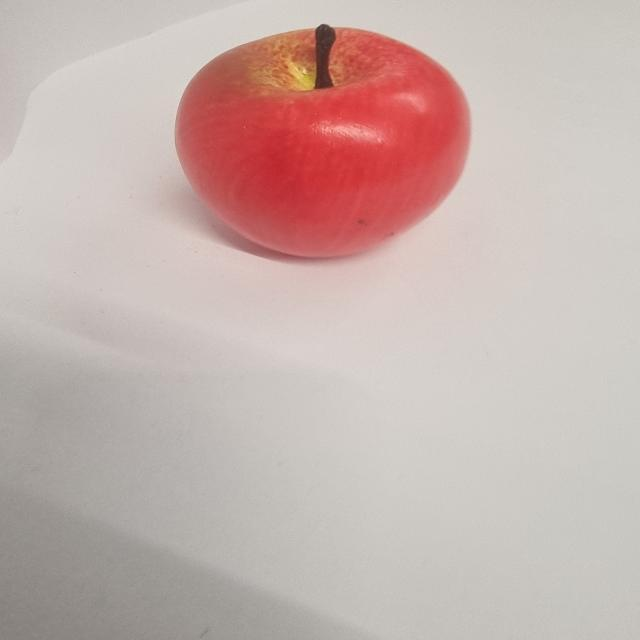apple: (174, 24, 468, 259)
